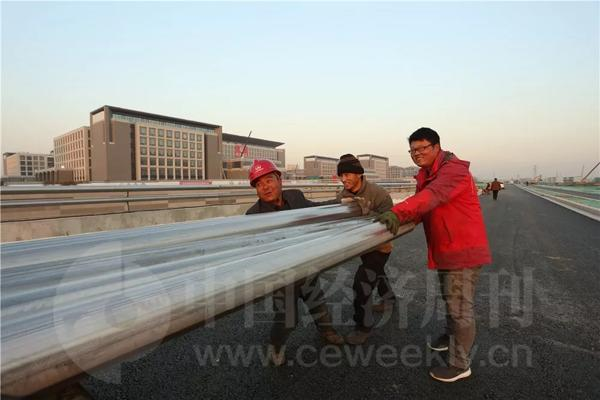helmet: (249, 158, 282, 188)
